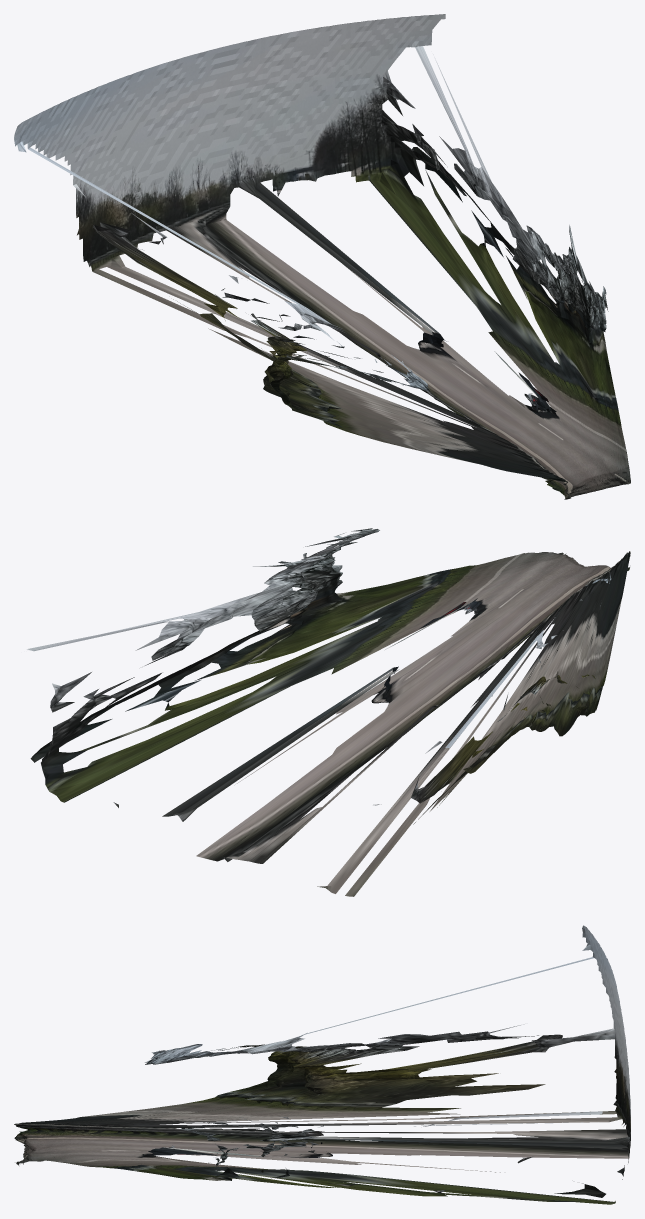
3 renders of one model, top to bottom at view 1: azimuth 30°, elevation 25°; view 2: azimuth 150°, elevation 25°; view 3: azimuth 270°, elevation 25°, orthographic. The views are drawn at different scales.
Visible parts, largest first — view 1: defaultobject; view 2: defaultobject; view 3: defaultobject.
Part boxes in pixels (x1=…): defaultobject: x1=14, y1=14, x2=630, y2=499; defaultobject: x1=27, y1=528, x2=630, y2=896; defaultobject: x1=14, y1=925, x2=630, y2=1204.
Size of the model in its own units: 29.84 by 12.42 by 44.89.
1 material, 1 textured.
